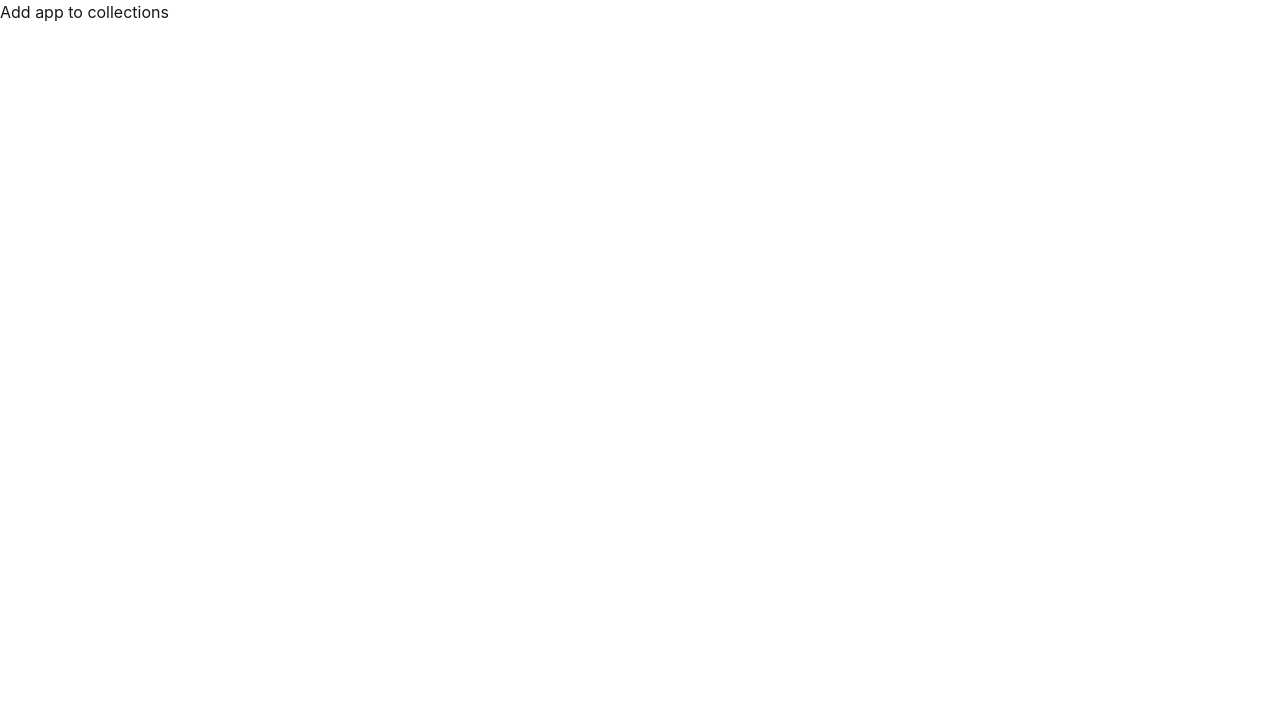
Test: reports membership failure without changing checked state
Click the button "Add app to collections". click: (84, 12)
box: left=0, top=0, right=169, bottom=24
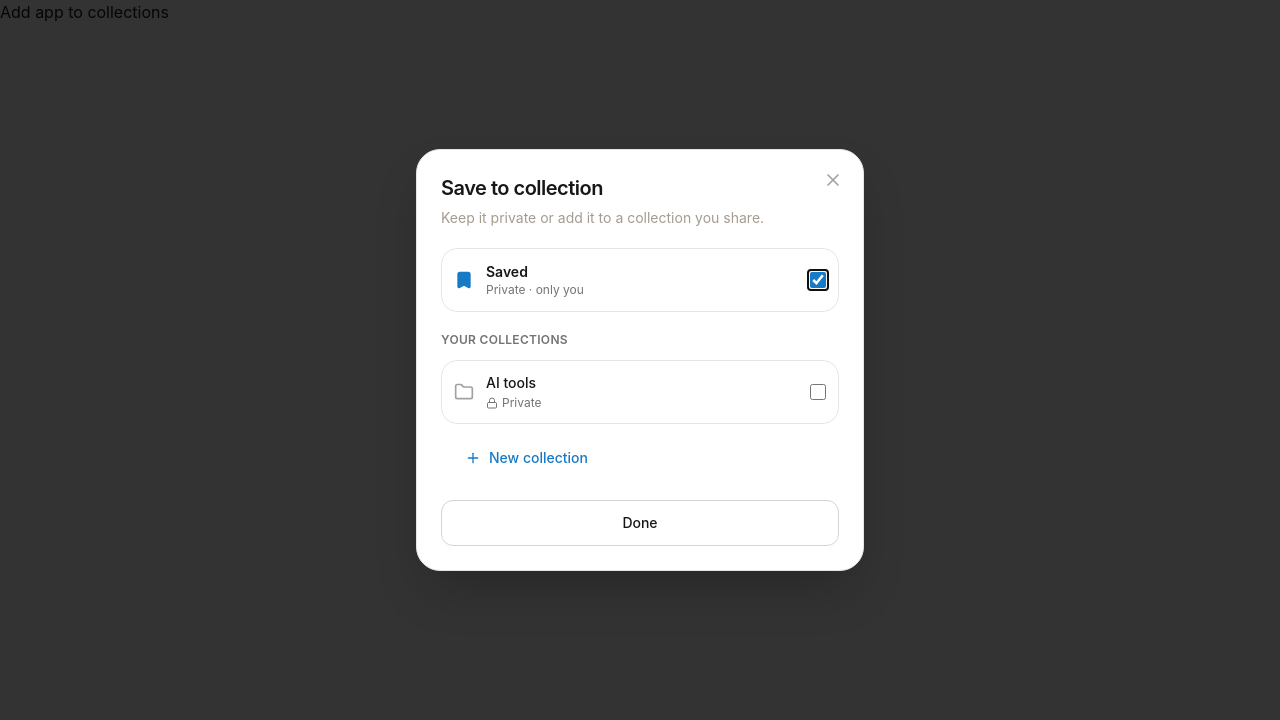
Click the checkbox labelled "AI tools Private". click: (818, 392)
box: left=810, top=384, right=826, bottom=400
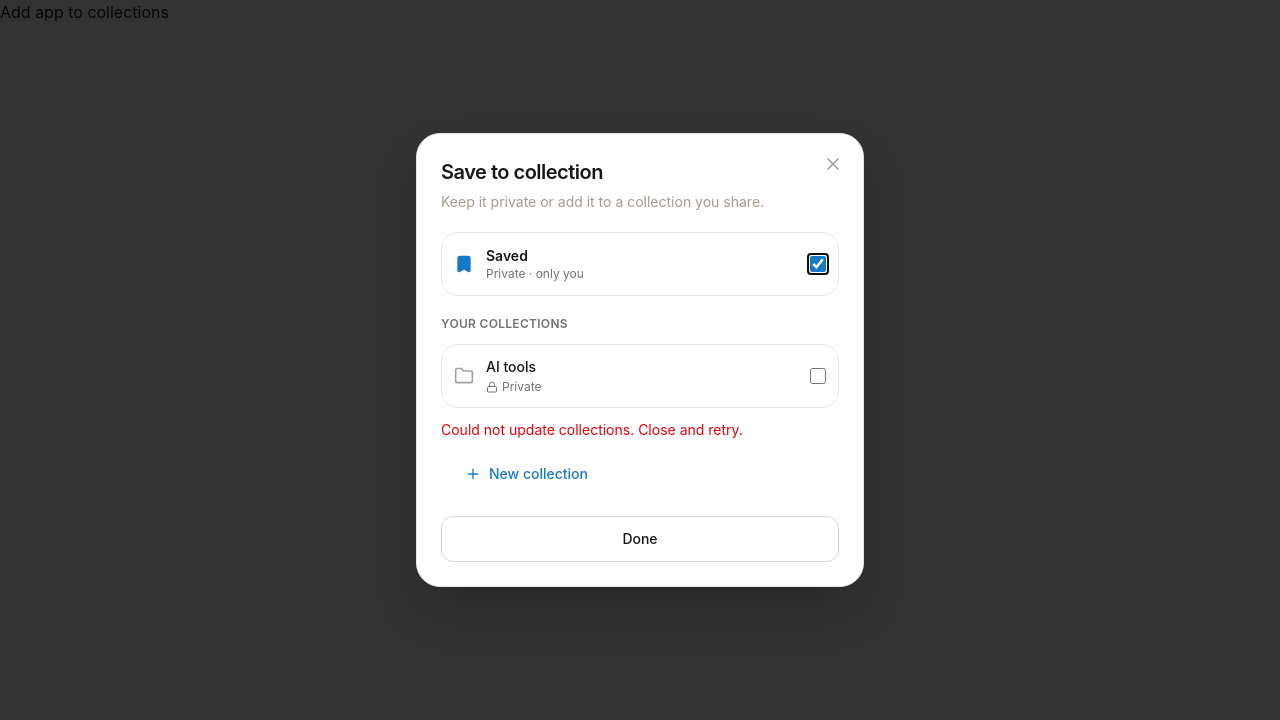
expect the checkbox labelled "AI tools Private" is not checked: met, box left=810, top=368, right=826, bottom=384
expect the message shows "Could not update": met, box left=441, top=421, right=743, bottom=438
